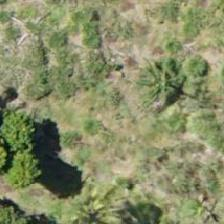coconut_tree: (35, 165, 125, 223)
